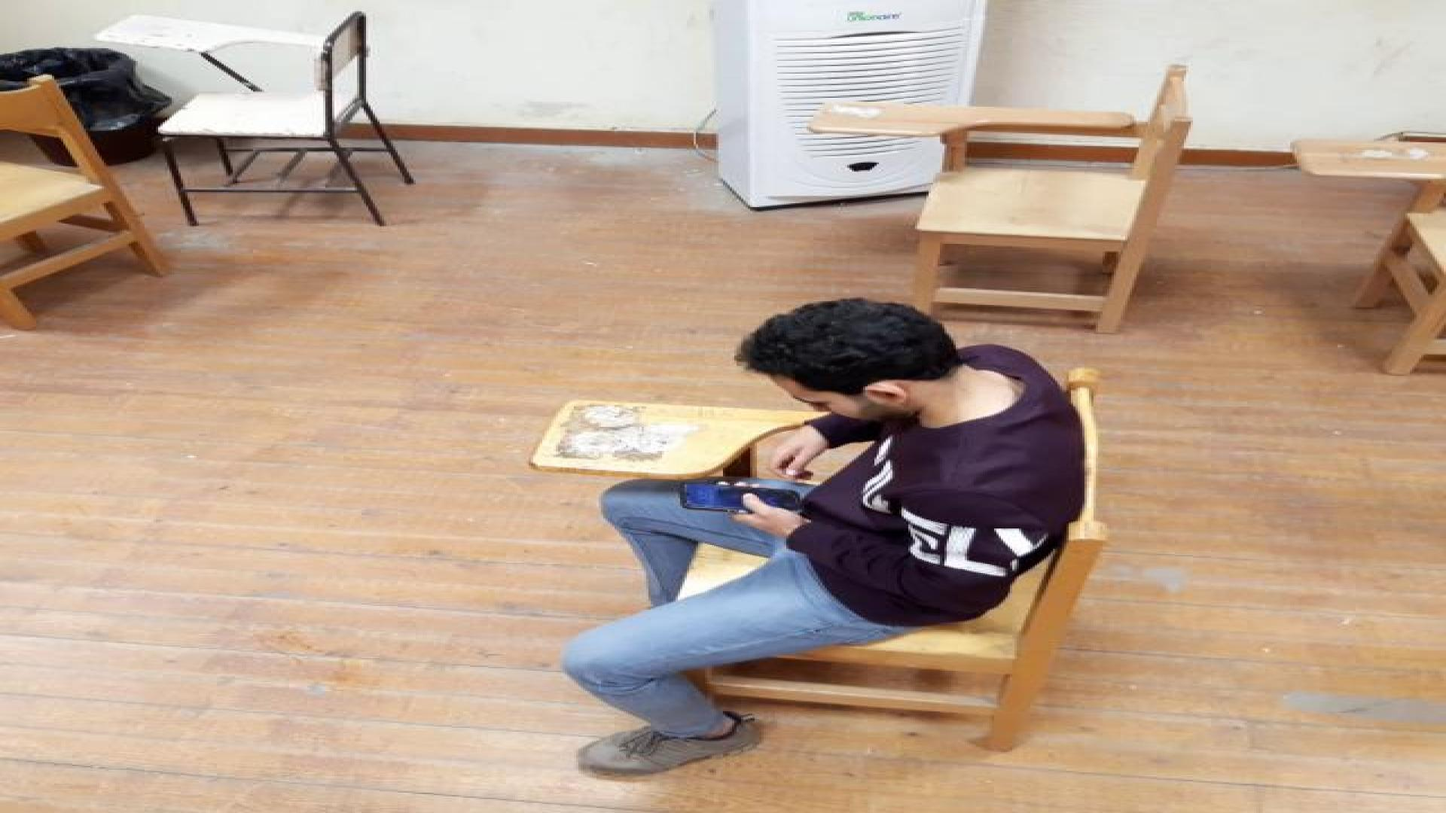phone: (673, 484, 813, 516)
